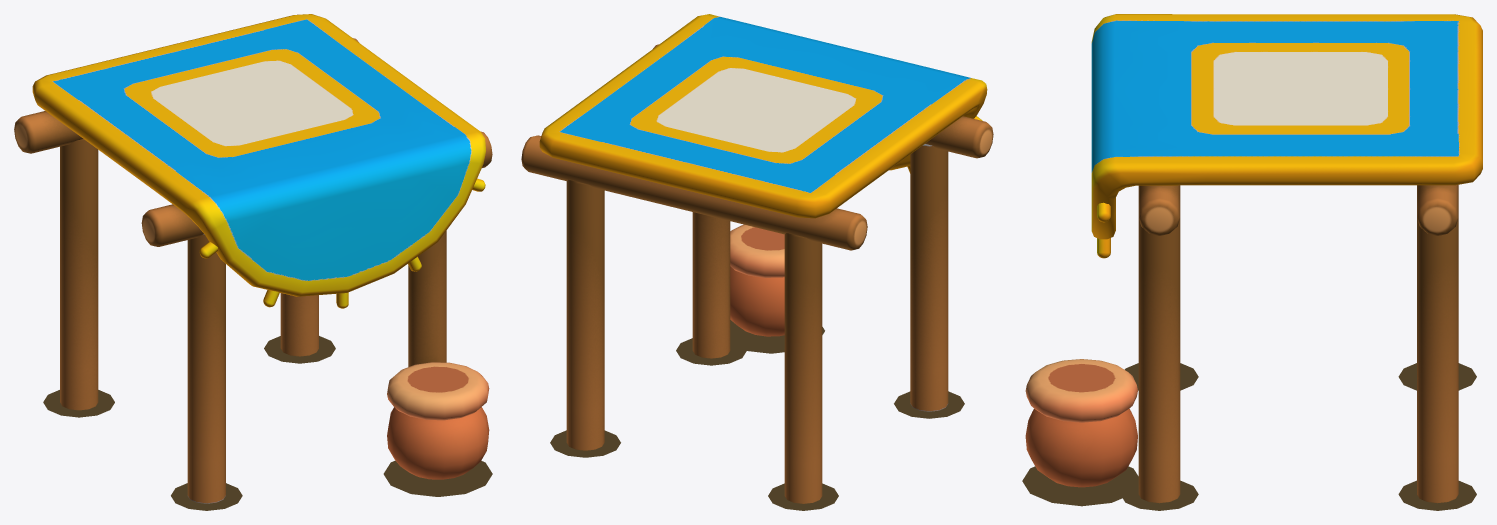
File: E_Tent.fbx
The picture shows the model from 3 angles, left to right: view 1: azimuth 30°, elevation 25°; view 2: azimuth 150°, elevation 25°; view 3: azimuth 270°, elevation 25°; orthographic projection. The views are drawn at different scales.
Visible parts, largest first — view 1: group51_pSphere40, group43_pCylinder51, pSphere43, pCylinder55; view 2: group51_pSphere40, group43_pCylinder51, pSphere43, pCylinder55; view 3: group51_pSphere40, group43_pCylinder51, pSphere43, pCylinder55.
Part boxes in pixels (box(x1,y1,x2,y2)): group51_pSphere40: box(32, 14, 485, 308); group43_pCylinder51: box(14, 38, 492, 503); pSphere43: box(387, 362, 489, 479); pCylinder55: box(43, 336, 492, 510); group51_pSphere40: box(539, 14, 987, 218); group43_pCylinder51: box(521, 44, 993, 503); pSphere43: box(730, 224, 784, 336); pCylinder55: box(550, 320, 964, 510); group51_pSphere40: box(1091, 14, 1482, 258); group43_pCylinder51: box(1138, 184, 1458, 503); pSphere43: box(1025, 359, 1137, 487); pCylinder55: box(1022, 363, 1476, 510).
Size of the model in its own units: 236 by 213 by 256.
